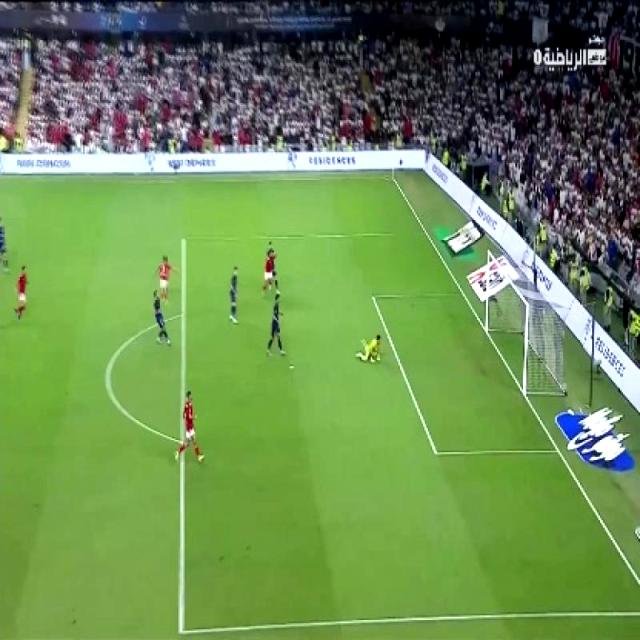bigarea_bottom_inner: (172, 613, 190, 640)
bigarea_top_inner: (178, 231, 194, 251)
bigarea_top_outter: (416, 224, 436, 243)
bottom_arc_area_intersection: (173, 430, 193, 456)
corner: (384, 172, 401, 186)
smallarea_bottom_inner: (426, 437, 442, 465)
smallarea_bottom_outter: (550, 440, 564, 460)
smallarea_top_inner: (366, 287, 384, 308)
smallarea_top_outter: (448, 284, 477, 306)
top_arc_area_intersection: (177, 308, 186, 322)
